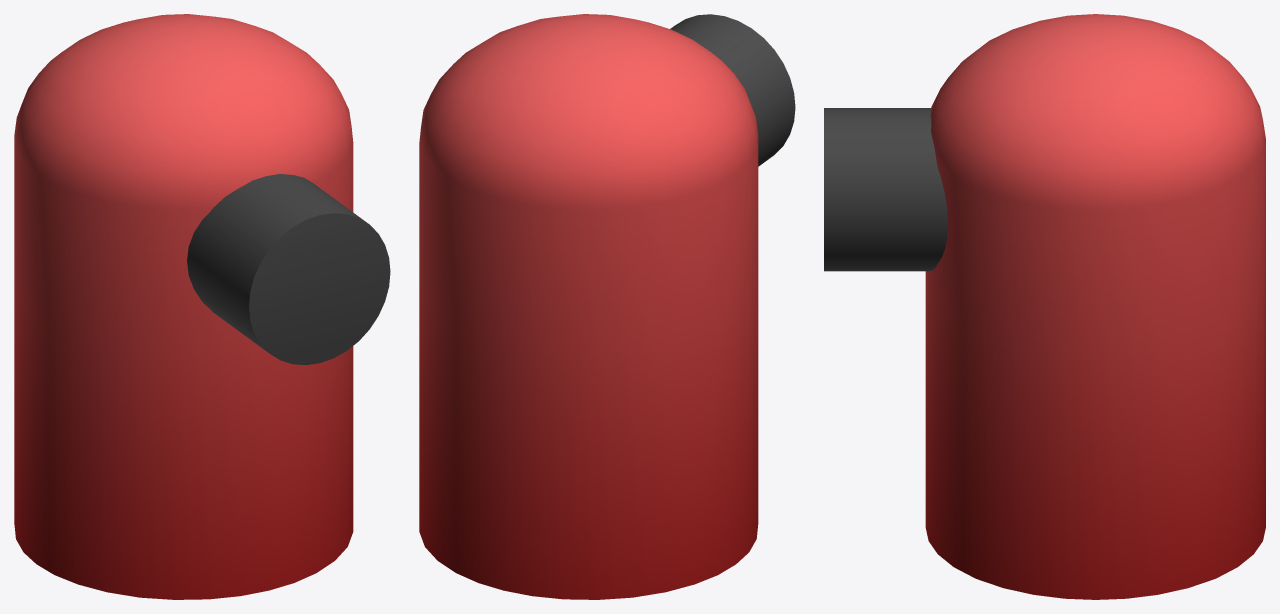
File: Drone.fbx
3 renders of one model, left to right at view 1: azimuth 30°, elevation 25°; view 2: azimuth 150°, elevation 25°; view 3: azimuth 270°, elevation 25°, orthographic.
Parts seen in each view (by area): view 1: Movement-Reference, Body-Reference, Turret-Reference; view 2: Body-Reference, Movement-Reference, Turret-Reference; view 3: Body-Reference, Movement-Reference, Turret-Reference.
Boxes of the visible parts, x1=… form: Movement-Reference: x1=14, y1=279, x2=353, y2=599; Body-Reference: x1=14, y1=14, x2=353, y2=353; Turret-Reference: x1=187, y1=174, x2=390, y2=365; Body-Reference: x1=419, y1=14, x2=758, y2=353; Movement-Reference: x1=419, y1=279, x2=758, y2=599; Turret-Reference: x1=670, y1=14, x2=795, y2=166; Body-Reference: x1=925, y1=14, x2=1265, y2=353; Movement-Reference: x1=925, y1=282, x2=1265, y2=599; Turret-Reference: x1=824, y1=108, x2=947, y2=271.
Bounding box in the file's own units: 100 × 160 × 130.
Materials: 1 (1 with a texture image).
